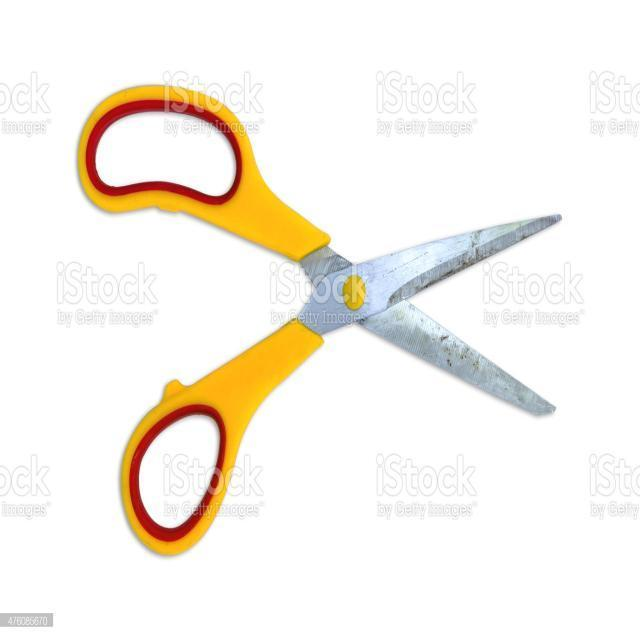scissor: (58, 84, 562, 555)
